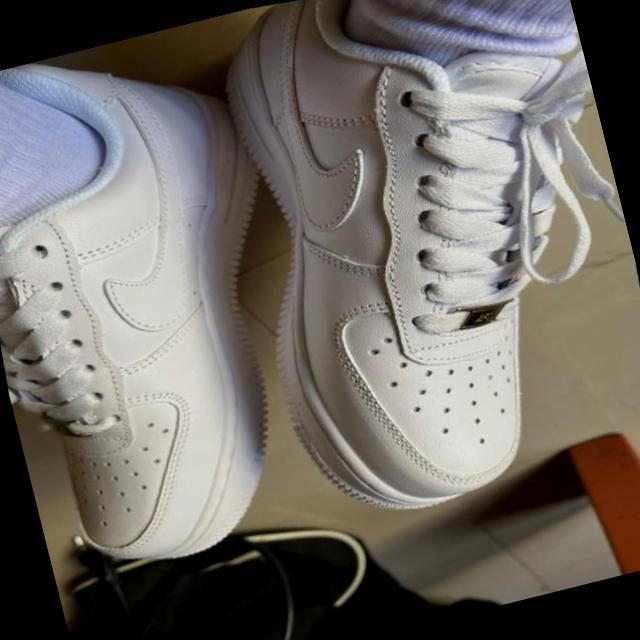nike_original_airforce: (173, 0, 640, 557), (0, 12, 360, 599)
